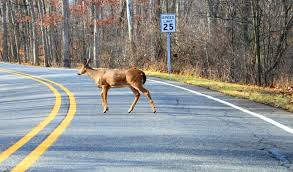deer: (75, 57, 158, 115)
